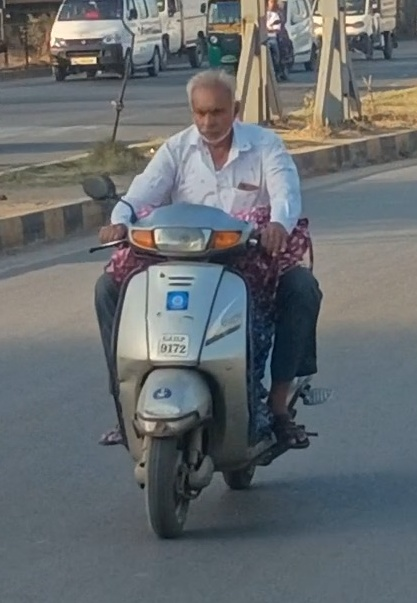BikeWithRider: (79, 70, 327, 540)
NoHelmet: (183, 68, 244, 149)
